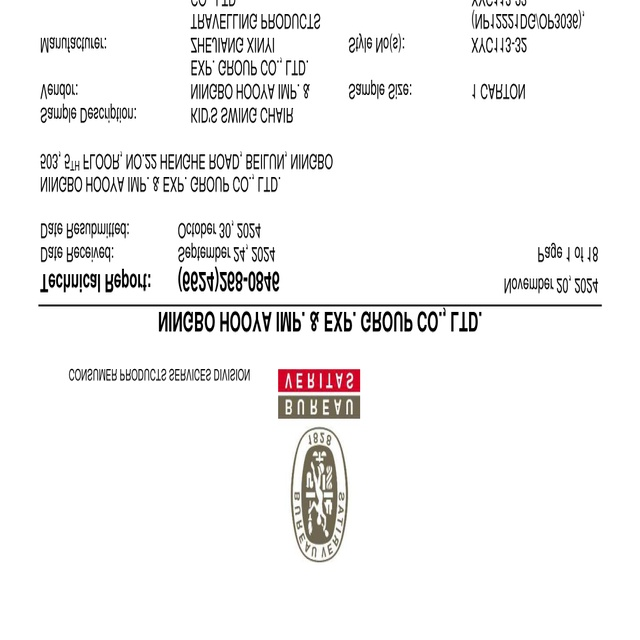bureau_veritas: (272, 367, 362, 565)
